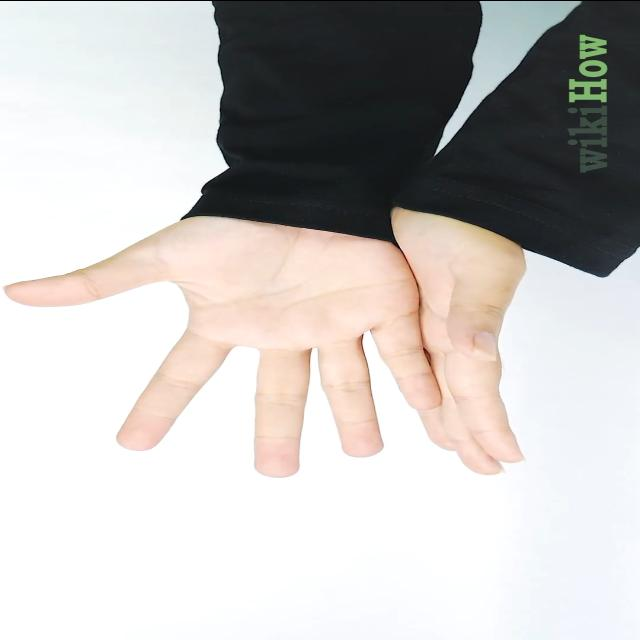Paper: (2, 213, 444, 480)
